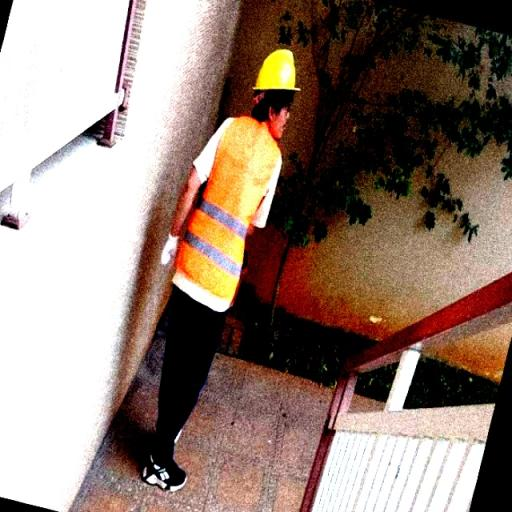Person: (120, 21, 323, 512)
boots: (136, 441, 200, 497)
gloves: (156, 230, 180, 273)
helmet: (241, 43, 314, 97)
vest: (186, 111, 273, 304)
